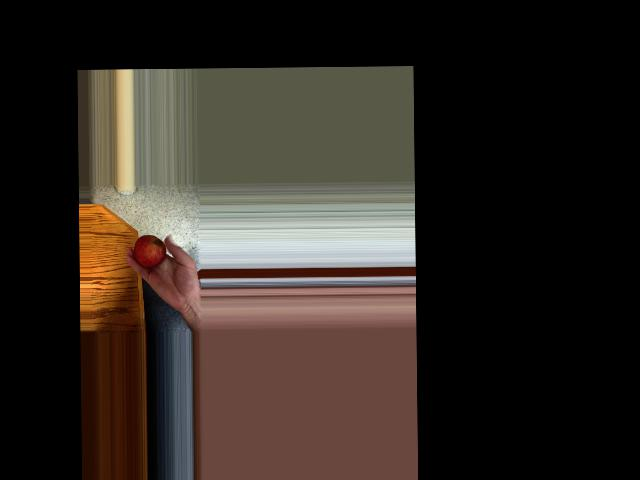apple: (134, 235, 168, 270)
